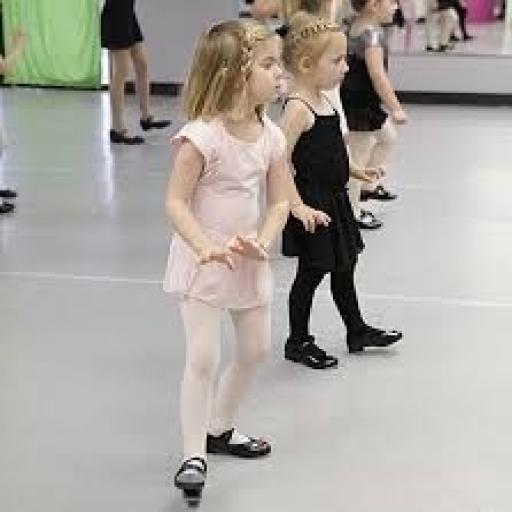dancing: (156, 32, 346, 334)
